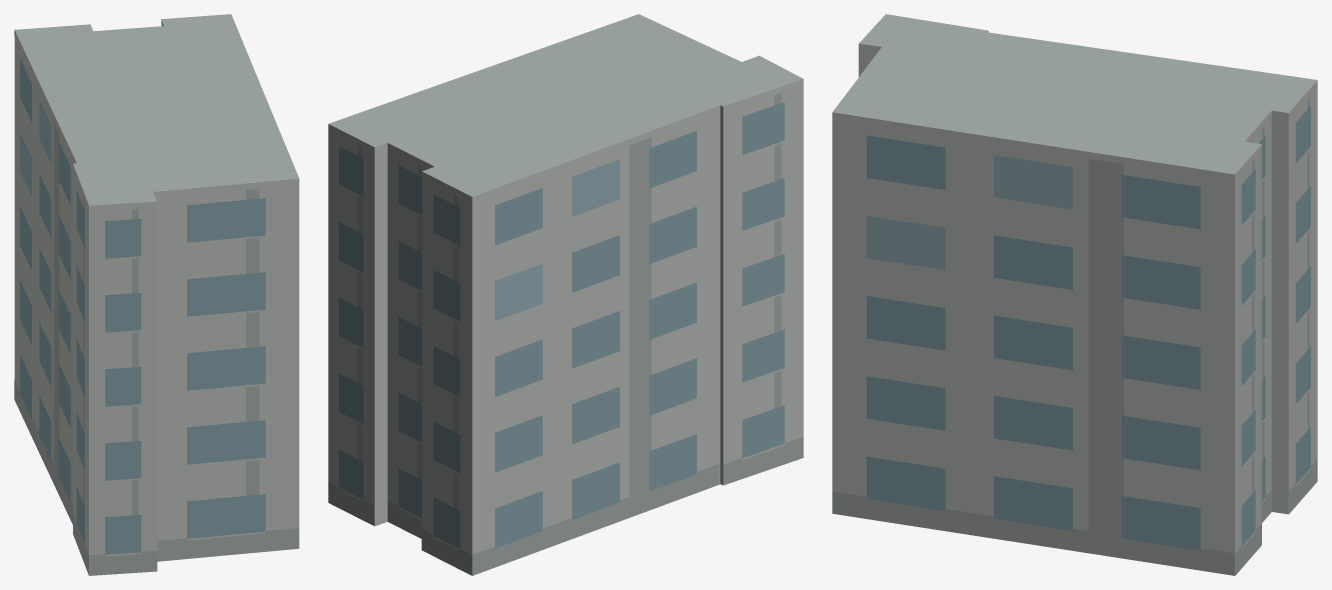
Rendered from survey-upis-32885785.glb.
The picture shows the model from 3 angles, left to right: view 1: azimuth 30°, elevation 25°; view 2: azimuth 150°, elevation 25°; view 3: azimuth 270°, elevation 25°; orthographic projection. The views are drawn at different scales.
Parts seen in each view (by area): view 1: survey-upis-32885785.tmp; view 2: survey-upis-32885785.tmp; view 3: survey-upis-32885785.tmp.
Boxes of the visible parts, x1,y1,x2,y2 form: survey-upis-32885785.tmp: [14, 14, 299, 575]; survey-upis-32885785.tmp: [328, 14, 803, 575]; survey-upis-32885785.tmp: [832, 14, 1317, 575].
Bounding box in the file's own units: 12.19 × 14.2 × 15.57.
